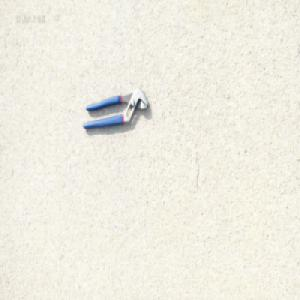Pliers: (82, 87, 150, 131)
